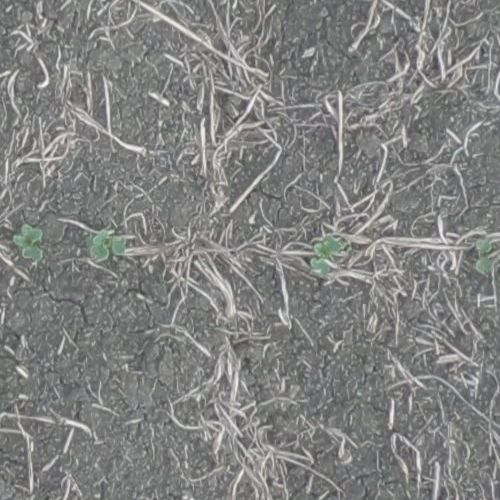clumped: (84, 229, 127, 264)
isolated: (310, 237, 340, 275), (14, 224, 42, 262), (475, 241, 498, 276)
